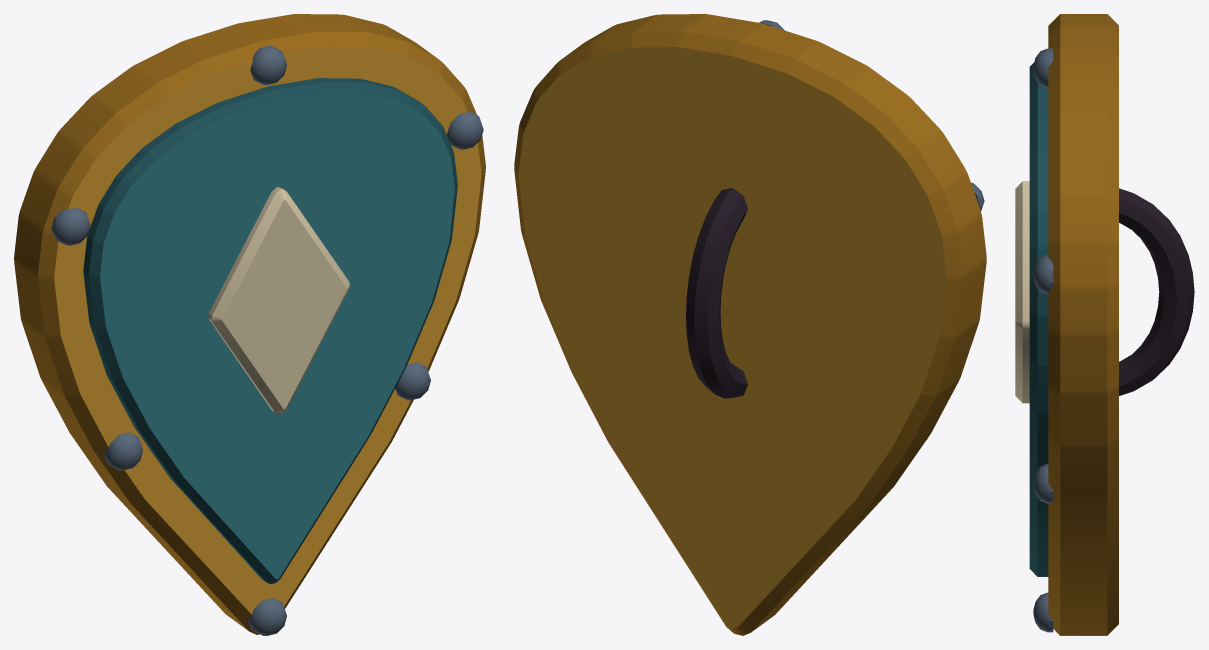
File: KiteShield_19.glb
The picture shows the model from 3 angles, left to right: view 1: azimuth 30°, elevation 25°; view 2: azimuth 150°, elevation 25°; view 3: azimuth 270°, elevation 25°; orthographic projection.
Visible parts, largest first — view 1: KiteShield_19; view 2: KiteShield_19; view 3: KiteShield_19.
Part boxes in pixels (left/top/right/bottom): KiteShield_19: left=14, top=14, right=485, bottom=635; KiteShield_19: left=514, top=14, right=986, bottom=635; KiteShield_19: left=1015, top=14, right=1194, bottom=635.
Bounding box in the file's own units: 2.17 × 2.74 × 0.76.
